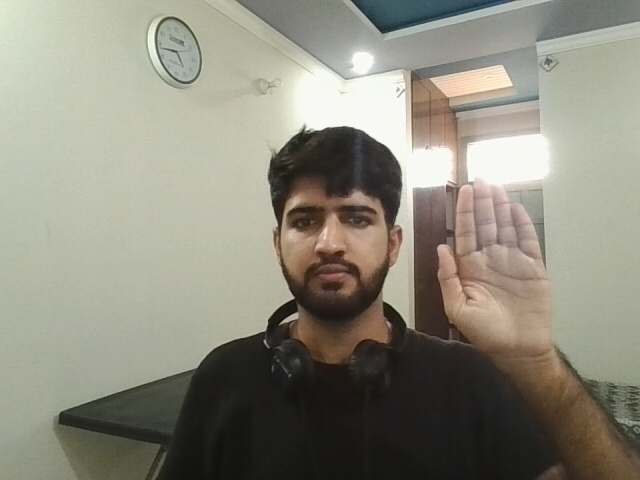Hello: (421, 173, 567, 359)
